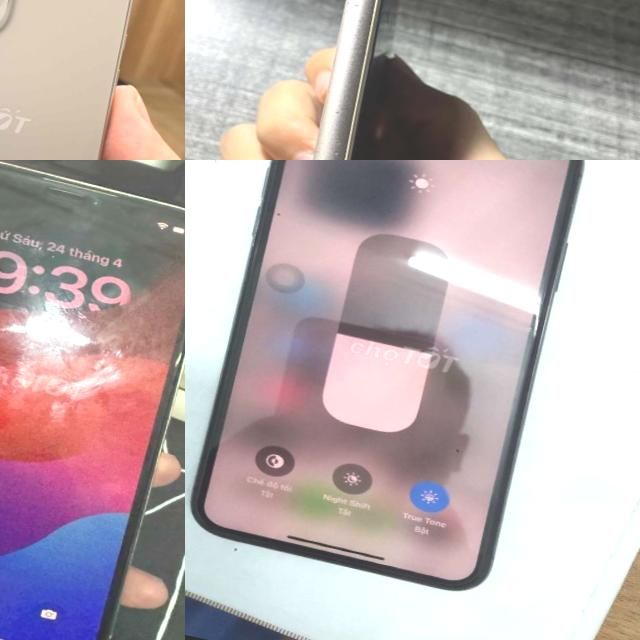scratch: (344, 0, 372, 13), (343, 91, 351, 103), (332, 149, 340, 156), (357, 19, 363, 25), (352, 32, 358, 38), (336, 139, 342, 145), (334, 110, 340, 114)
